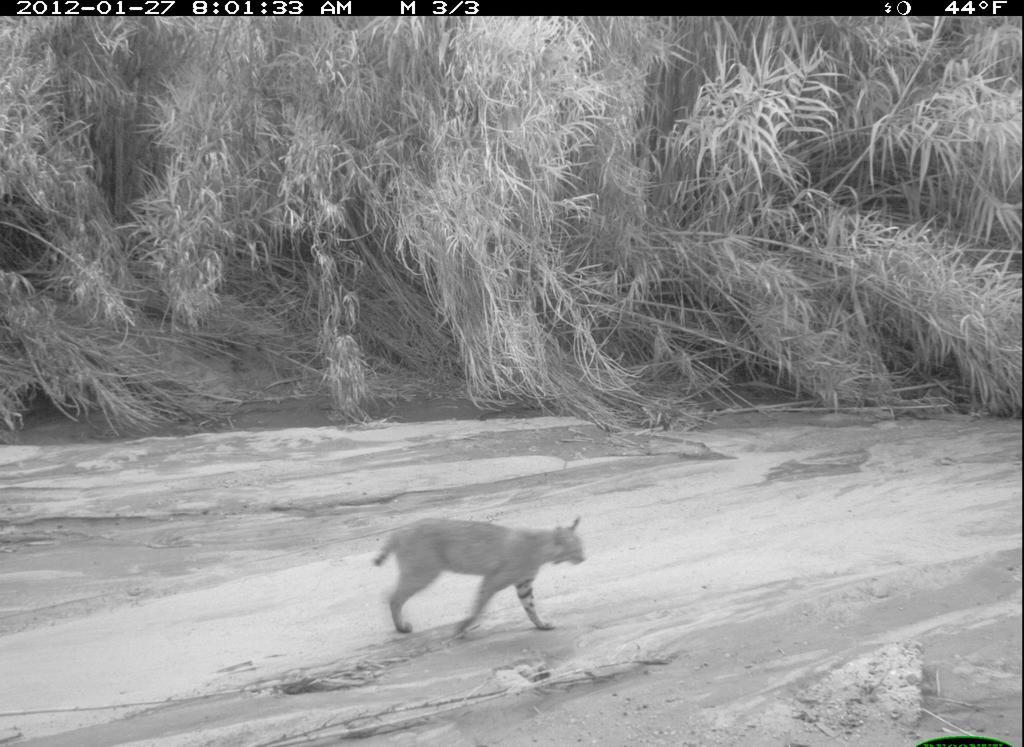bobcat: (373, 505, 591, 660)
